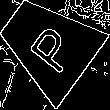P_NW: (18, 15, 77, 75)
